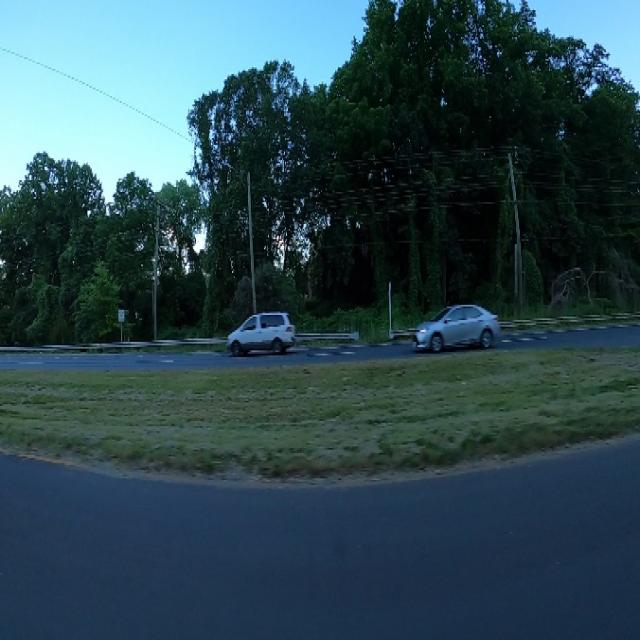car: (412, 288, 499, 362), (225, 303, 300, 357)
